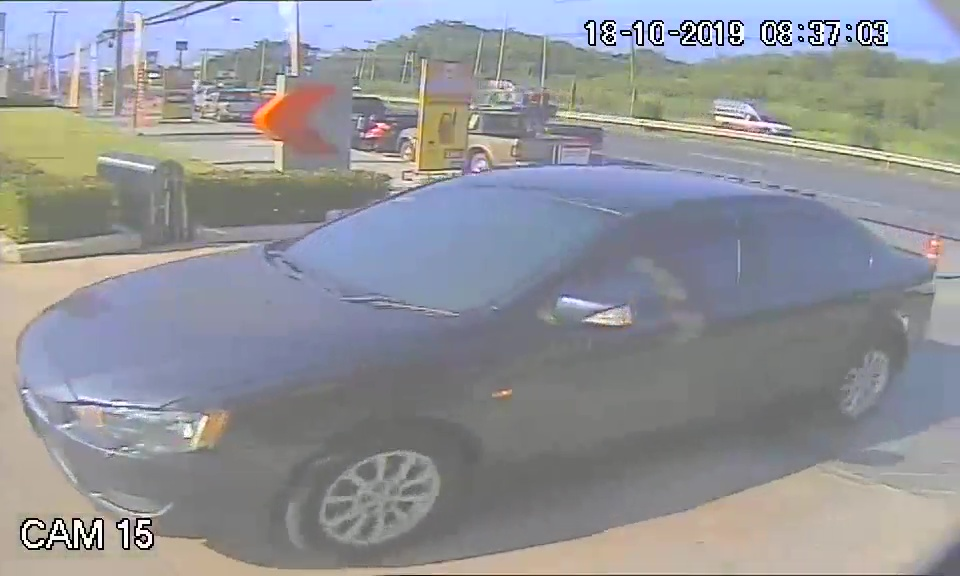sedan: (12, 161, 938, 532)
